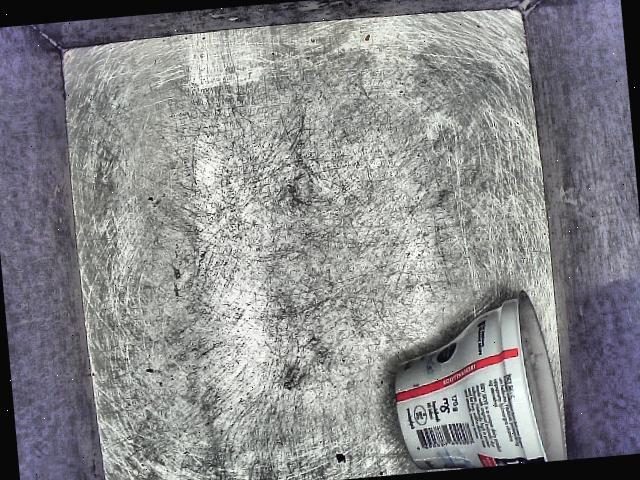Plastic: (378, 277, 580, 474)
